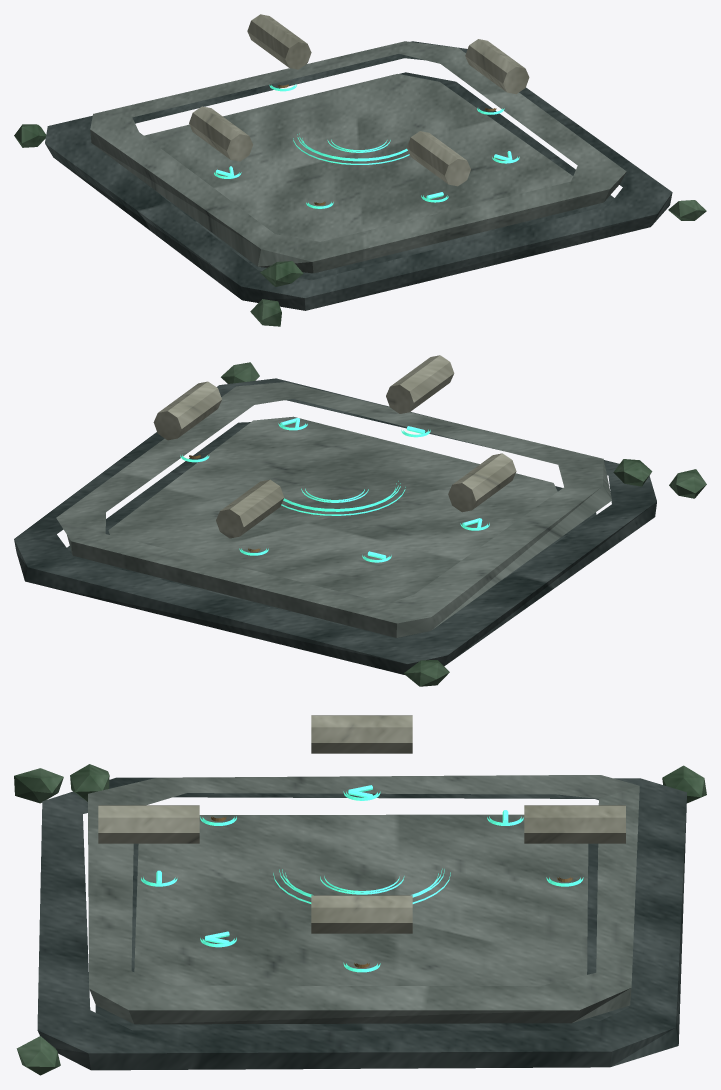
File: 0574_rune_dais_24.glb
3 views of the same model, one above another, from view 1: azimuth 30°, elevation 25°; view 2: azimuth 150°, elevation 25°; view 3: azimuth 270°, elevation 25° (orthographic). The views are drawn at different scales.
Visible parts, largest first — view 1: stone, stone_dark, stone_light, moss, glow; view 2: stone, stone_dark, stone_light, moss, glow; view 3: stone, stone_dark, stone_light, moss, glow.
Part boxes in pixels (bbox=[...]): stone: bbox=[90, 41, 626, 273]; stone_dark: bbox=[45, 41, 672, 310]; stone_light: bbox=[189, 14, 529, 186]; moss: bbox=[14, 124, 706, 326]; glow: bbox=[214, 84, 519, 208]; stone: bbox=[56, 382, 611, 637]; stone_dark: bbox=[14, 378, 656, 674]; stone_light: bbox=[153, 355, 516, 538]; moss: bbox=[221, 362, 706, 686]; glow: bbox=[180, 418, 489, 562]; stone: bbox=[88, 775, 639, 1024]; stone_dark: bbox=[37, 777, 687, 1070]; stone_light: bbox=[98, 715, 625, 933]; moss: bbox=[14, 764, 706, 1075]; glow: bbox=[141, 785, 583, 972].
Bounding box in the file's own units: 3.39 × 0.7094 × 3.42.
6 materials, 6 textured.
